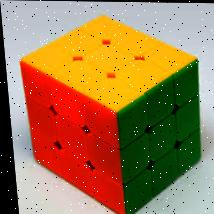cube: (16, 15, 206, 214)
